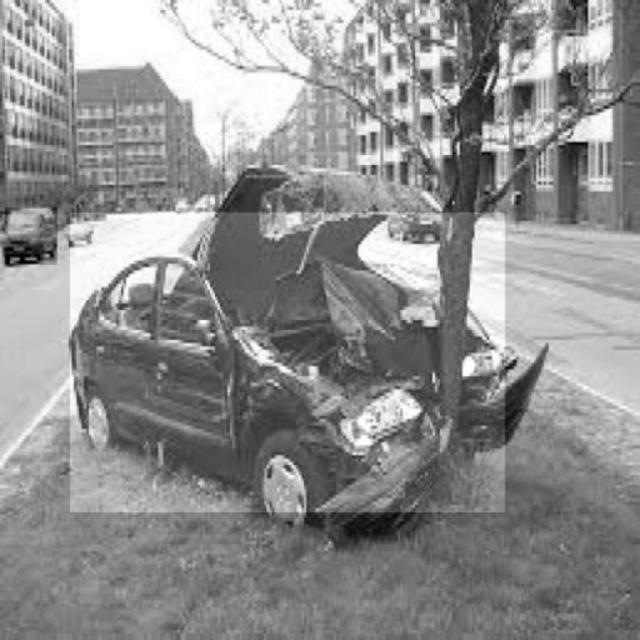accident: (71, 214, 505, 514)
vehicle: (6, 207, 58, 265)
